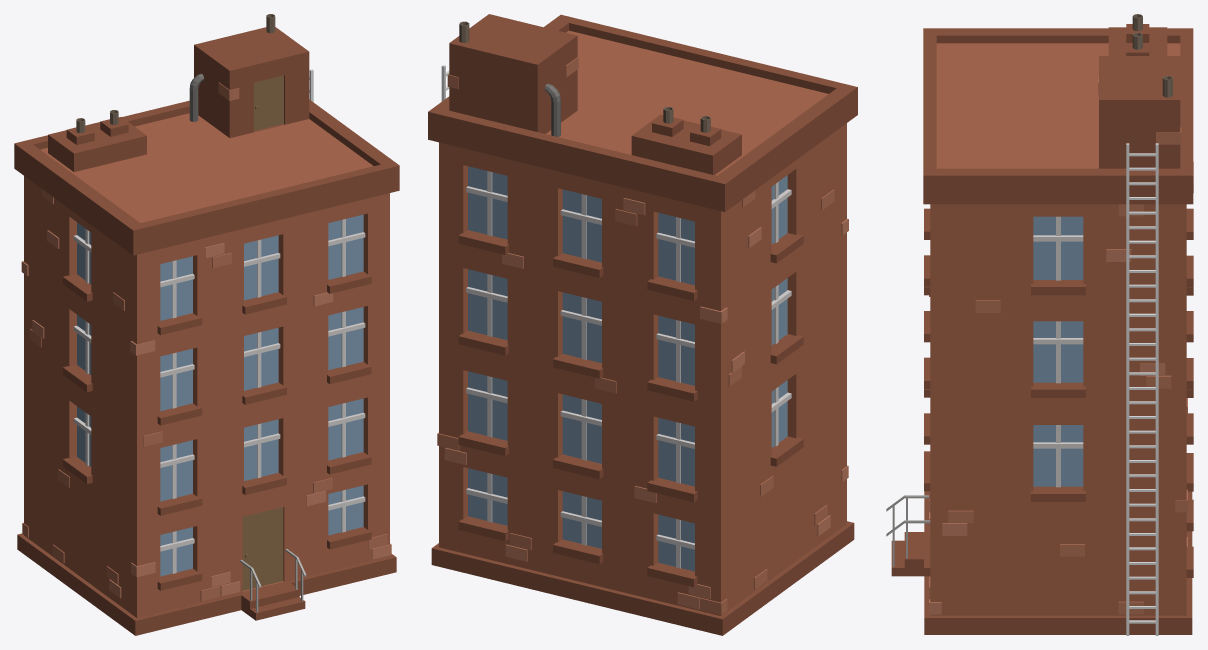
File: House_01_Ladder.fbx
3 views of the same model, side by side, from view 1: azimuth 30°, elevation 25°; view 2: azimuth 150°, elevation 25°; view 3: azimuth 270°, elevation 25° (orthographic). The views are drawn at different scales.
Visible parts, largest first — view 1: House_01; view 2: House_01; view 3: House_01, Ladder.
Boxes of the visible parts, x1,y1,x2,y2 form: House_01: (14, 14, 399, 635); House_01: (428, 14, 857, 635); House_01: (886, 14, 1193, 634); Ladder: (1126, 143, 1158, 635).
Bounding box in the file's own units: 7.23 × 12.35 × 6.3.
